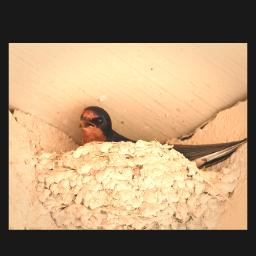Swallow: (77, 104, 247, 176)
